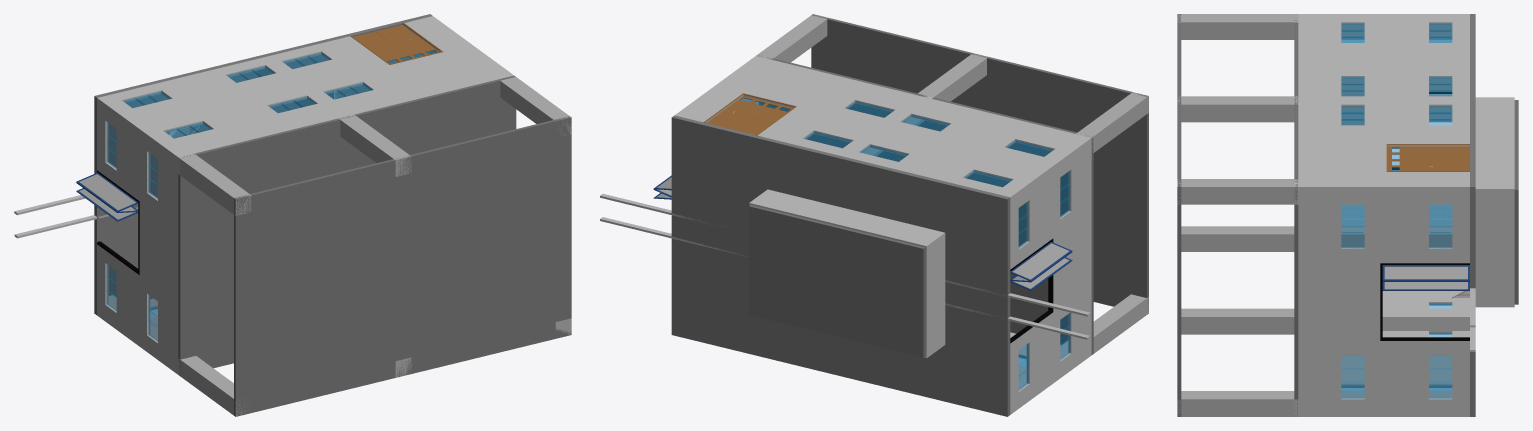
The model's file is station.obj.
3 views of the same model, side by side, from view 1: azimuth 30°, elevation 25°; view 2: azimuth 150°, elevation 25°; view 3: azimuth 270°, elevation 25° (orthographic). The views are drawn at different scales.
Parts seen in each view (by area): view 1: product-41145fed-9eef-48a9-a47f-09a32eacfae0-body, product-41145fed-9eef-48a9-a47f-09a32eacfbbb-body, product-5eaeb63a-489d-4e76-a2ca-3563de4237b7-body, product-5eaeb63a-489d-4e76-a2ca-3563de4235ca-body, product-5eaeb63a-489d-4e76-a2ca-3563de423376-body, product-5eaeb63a-489d-4e76-a2ca-3563de423a85-body, product-d0ee1473-d8fe-4ebe-a082-dc74af3d1940-body, product-41145fed-9eef-48a9-a47f-09a32eac3d0c-body, product-41145fed-9eef-48a9-a47f-09a32eacfad1-body, product-41145fed-9eef-48a9-a47f-09a32eacfa6f-body, product-41145fed-9eef-48a9-a47f-09a32eac85ee-body, product-41145fed-9eef-48a9-a47f-09a32eac8440-body (+2 smaller); view 2: product-5eaeb63a-489d-4e76-a2ca-3563de423376-body, product-41145fed-9eef-48a9-a47f-09a32eacfae0-body, product-5eaeb63a-489d-4e76-a2ca-3563de4237b7-body, product-5eaeb63a-489d-4e76-a2ca-3563de42331b-body, product-5eaeb63a-489d-4e76-a2ca-3563de4235ca-body, product-41145fed-9eef-48a9-a47f-09a32eacfbbb-body, product-5eaeb63a-489d-4e76-a2ca-3563de42348d-body, product-5eaeb63a-489d-4e76-a2ca-3563de423a85-body, product-5eaeb63a-489d-4e76-a2ca-3563de423381-body, product-d0ee1473-d8fe-4ebe-a082-dc74af3d1940-body, product-41145fed-9eef-48a9-a47f-09a32eac3d0c-body, product-41145fed-9eef-48a9-a47f-09a32eacfad1-body (+7 smaller); view 3: product-5eaeb63a-489d-4e76-a2ca-3563de42373f-body, product-5eaeb63a-489d-4e76-a2ca-3563de4237b7-body, product-5eaeb63a-489d-4e76-a2ca-3563de423462-body, product-5eaeb63a-489d-4e76-a2ca-3563de42392a-body, product-5eaeb63a-489d-4e76-a2ca-3563de42348d-body, product-5eaeb63a-489d-4e76-a2ca-3563de423653-body, product-5eaeb63a-489d-4e76-a2ca-3563de42396f-body, product-41145fed-9eef-48a9-a47f-09a32eacfa6f-body, product-41145fed-9eef-48a9-a47f-09a32eac84c5-body, product-41145fed-9eef-48a9-a47f-09a32eac855f-body, product-17ff34f3-9572-45ed-a8ce-9364d2650d05-body, product-41145fed-9eef-48a9-a47f-09a32eac85ee-body (+24 smaller).
Boxes of the visible parts, x1,y1,x2,y2 form: product-41145fed-9eef-48a9-a47f-09a32eacfae0-body: [234, 116, 571, 416]; product-41145fed-9eef-48a9-a47f-09a32eacfbbb-body: [178, 75, 516, 375]; product-5eaeb63a-489d-4e76-a2ca-3563de4237b7-body: [113, 20, 497, 153]; product-5eaeb63a-489d-4e76-a2ca-3563de4235ca-body: [97, 115, 178, 357]; product-5eaeb63a-489d-4e76-a2ca-3563de423376-body: [94, 14, 432, 314]; product-5eaeb63a-489d-4e76-a2ca-3563de423a85-body: [97, 94, 195, 174]; product-d0ee1473-d8fe-4ebe-a082-dc74af3d1940-body: [76, 170, 139, 274]; product-41145fed-9eef-48a9-a47f-09a32eac3d0c-body: [350, 22, 443, 64]; product-41145fed-9eef-48a9-a47f-09a32eacfad1-body: [180, 155, 251, 215]; product-41145fed-9eef-48a9-a47f-09a32eacfa6f-body: [340, 116, 411, 176]; product-41145fed-9eef-48a9-a47f-09a32eac85ee-body: [500, 77, 571, 135]; product-41145fed-9eef-48a9-a47f-09a32eac8440-body: [180, 356, 249, 416]; product-5eaeb63a-489d-4e76-a2ca-3563de423376-body: [671, 115, 1010, 416]; product-41145fed-9eef-48a9-a47f-09a32eacfae0-body: [811, 14, 1148, 310]; product-5eaeb63a-489d-4e76-a2ca-3563de4237b7-body: [691, 60, 1074, 193]; product-5eaeb63a-489d-4e76-a2ca-3563de42331b-body: [749, 205, 925, 357]; product-5eaeb63a-489d-4e76-a2ca-3563de4235ca-body: [1010, 155, 1091, 397]; product-41145fed-9eef-48a9-a47f-09a32eacfbbb-body: [756, 55, 1093, 354]; product-5eaeb63a-489d-4e76-a2ca-3563de42348d-body: [749, 189, 945, 249]; product-5eaeb63a-489d-4e76-a2ca-3563de423a85-body: [994, 133, 1093, 213]; product-5eaeb63a-489d-4e76-a2ca-3563de423381-body: [925, 236, 945, 354]; product-d0ee1473-d8fe-4ebe-a082-dc74af3d1940-body: [1010, 239, 1072, 343]; product-41145fed-9eef-48a9-a47f-09a32eac3d0c-body: [703, 93, 796, 135]; product-41145fed-9eef-48a9-a47f-09a32eacfad1-body: [1078, 92, 1148, 152]; product-5eaeb63a-489d-4e76-a2ca-3563de42373f-body: [1298, 204, 1469, 399]; product-5eaeb63a-489d-4e76-a2ca-3563de4237b7-body: [1298, 22, 1469, 178]; product-5eaeb63a-489d-4e76-a2ca-3563de423462-body: [1475, 192, 1514, 307]; product-5eaeb63a-489d-4e76-a2ca-3563de42392a-body: [1294, 179, 1469, 204]; product-5eaeb63a-489d-4e76-a2ca-3563de42348d-body: [1475, 97, 1514, 192]; product-5eaeb63a-489d-4e76-a2ca-3563de423653-body: [1341, 291, 1469, 387]; product-5eaeb63a-489d-4e76-a2ca-3563de42396f-body: [1294, 391, 1469, 416]; product-41145fed-9eef-48a9-a47f-09a32eacfa6f-body: [1177, 96, 1294, 122]; product-41145fed-9eef-48a9-a47f-09a32eac84c5-body: [1181, 308, 1294, 334]; product-41145fed-9eef-48a9-a47f-09a32eac855f-body: [1177, 391, 1294, 416]; product-17ff34f3-9572-45ed-a8ce-9364d2650d05-body: [1380, 263, 1469, 340]; product-41145fed-9eef-48a9-a47f-09a32eac85ee-body: [1177, 179, 1294, 204].
Size of the model in its own units: 30.48 by 13.02 by 17.5.
